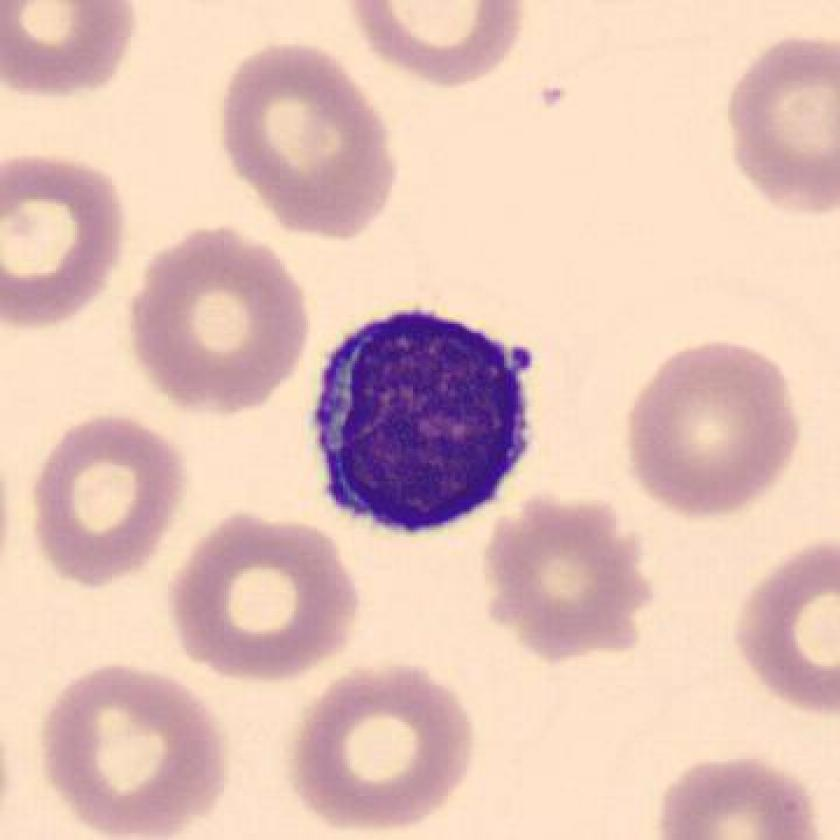lymphocyte: (286, 295, 559, 547)
